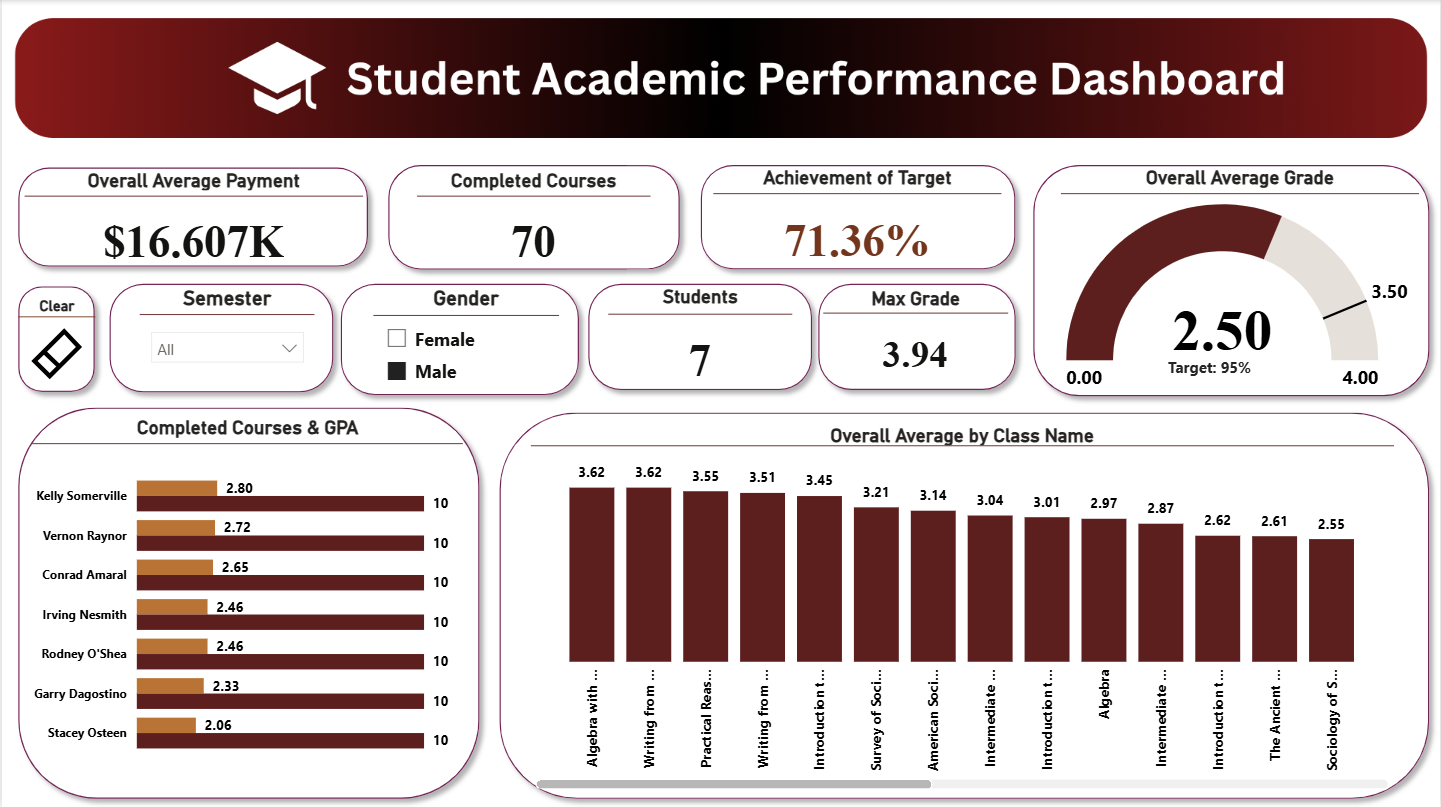

The page's visual inventory and layout, read from the dashboard file:
{"tool":"powerbi","page":{"name":"Page 1","canvas":[1280,720],"ordinal":0},"visuals":[{"type":"group","id":"g1","title":"Group 1","box":[612.9,137.5,298,110.8],"z":0,"group":"g9"},{"type":"shape","box":[909.5,138,370.7,223.7],"z":0,"group":"g10"},{"type":"shape","box":[718,243.8,193.7,112.4],"z":0,"group":"g7"},{"type":"group","id":"g2","title":"Group 3","box":[434.3,358.3,845.7,361.9],"z":0},{"type":"shape","box":[434.3,358.3,845.7,361.9],"z":0,"group":"g2"},{"type":"gauge","title":"Overall Average Grade ","fields":{"Y":["Measures_.Overall Avg Grade"],"TargetValue":["Measures_.Target Grade"]},"box":[942.8,147.8,319.4,211.7],"z":1000,"group":"g11"},{"type":"cardVisual","title":"Max Grade","fields":{"Data":["Measures_.Max Grade"]},"box":[731.7,256.5,164.8,92.5],"z":1000,"group":"g7"},{"type":"group","id":"g3","title":"Group 4","box":[5.6,354,428.6,366.2],"z":1000},{"type":"clusteredColumnChart","title":"Overall Average by Class Name","fields":{"Category":["Courses.Class Name"],"Y":["Measures_.Overall Avg Grade"]},"box":[471.3,377.2,768.5,329.4],"z":1000,"group":"g2"},{"type":"shape","box":[612.9,137.5,298,110.8],"z":2000,"group":"g1"},{"type":"group","id":"g4","title":"Group 5","box":[513.2,243.8,217.1,112.4],"z":2000},{"type":"group","id":"g5","title":"Group 6","box":[335.4,137.5,277.5,113.4],"z":3000},{"type":"shape","box":[335.4,137.5,277.5,111],"z":3000,"group":"g5"},{"type":"group","id":"g6","title":"Group 2","box":[6,139.9,329.4,106.2],"z":3000,"group":"g8"},{"type":"cardVisual","title":"Achievement of Target","fields":{"Data":["Measures_.Achievement %"]},"box":[633.4,147.6,257,105.7],"z":3000,"group":"g9"},{"type":"shape","box":[86.8,243.8,217.2,114.6],"z":3000,"group":"g13"},{"type":"shape","box":[292.8,243.8,230,117],"z":3000,"group":"g12"},{"type":"shape","box":[513.2,243.8,217.2,112.6],"z":4000,"group":"g4"},{"type":"group","id":"g7","title":"Group 8","box":[718,243.8,193.7,112.4],"z":4000},{"type":"shape","box":[6,246,86,112],"z":4000,"group":"g14"},{"type":"group","id":"g8","title":"Group 9","box":[6,139.9,329.4,111],"z":5000},{"type":"cardVisual","title":"Completed Courses","fields":{"Data":["Measures_.Completed Courses"]},"box":[370.4,149.4,207.7,101.3],"z":5000,"group":"g5"},{"type":"cardVisual","title":"Overall Average Payment","fields":{"Data":["Measures_.Avg Payment"]},"box":[20.5,149.6,301.6,101.3],"z":5000,"group":"g8"},{"type":"group","id":"g9","title":"Group 10","box":[612.9,137.5,298,115.8],"z":6000},{"type":"shape","box":[6,139.9,329.4,106.2],"z":6000,"group":"g6"},{"type":"group","id":"g10","title":"Group 11","box":[909.5,138,370.7,223.7],"z":7000},{"type":"cardVisual","title":"Students","fields":{"Data":["CountNonNull(StudentInfo.Full Name)"]},"box":[539.8,253.6,163.9,102.8],"z":7000,"group":"g4"},{"type":"group","id":"g11","title":"Group 7","box":[942.8,147.8,319.4,211.7],"z":8000,"group":"g10"},{"type":"group","id":"g12","title":"Group 12","box":[292.8,243.8,230.4,116.9],"z":8000},{"type":"slicer","title":"Semester","fields":{"Values":["Semesters.Semester"]},"box":[122.6,255,156,92.2],"z":8002,"group":"g13"},{"type":"slicer","title":"Gender","fields":{"Values":["StudentInfo.Gender"]},"box":[330.8,255.2,165.3,94.1],"z":8002,"group":"g12"},{"type":"group","id":"g13","title":"Group 12","box":[86.8,243.8,217.1,114.7],"z":9000},{"type":"textbox","box":[1021.9,312.8,106.9,28.9],"z":10000},{"type":"shape","box":[5.6,354,428.6,366.2],"z":10000,"group":"g3"},{"type":"actionButton","title":"Clear","box":[14.5,264.9,69,76.8],"z":10001,"group":"g14"},{"type":"group","id":"g14","title":"Group 13","box":[6,246,86,112],"z":11000},{"type":"clusteredBarChart","title":"Completed Courses & GPA","fields":{"Y":["Measures_.Overall Avg Grade","Measures_.Completed Courses"],"Category":["Students.StudentName"]},"box":[22.7,370.3,393.1,315.6],"z":11000,"group":"g3"}]}

Visuals, with their boxes in screenshot pixels (x1, y1, x2, y2), scaled from the page's 1280x720 canvas onto the 1441x807 screenshot:
"Group 1" group: 690,154,1025,278
shape: 1024,155,1440,405
shape: 808,273,1026,399
"Group 3" group: 489,402,1440,806
shape: 489,402,1440,806
"Overall Average Grade " gauge: 1061,166,1421,403
"Max Grade" cardVisual: 824,287,1009,391
"Group 4" group: 6,397,489,806
"Overall Average by Class Name" clusteredColumnChart: 531,423,1396,792
shape: 690,154,1025,278
"Group 5" group: 578,273,822,399
"Group 6" group: 378,154,690,281
shape: 378,154,690,279
"Group 2" group: 7,157,378,276
"Achievement of Target" cardVisual: 713,165,1002,284
shape: 98,273,342,402
shape: 330,273,589,404
shape: 578,273,822,399
"Group 8" group: 808,273,1026,399
shape: 7,276,104,401
"Group 9" group: 7,157,378,281
"Completed Courses" cardVisual: 417,167,651,281
"Overall Average Payment" cardVisual: 23,168,363,281
"Group 10" group: 690,154,1025,284
shape: 7,157,378,276
"Group 11" group: 1024,155,1440,405
"Students" cardVisual: 608,284,792,399
"Group 7" group: 1061,166,1421,403
"Group 12" group: 330,273,589,404
"Semester" slicer: 138,286,314,389
"Gender" slicer: 372,286,559,392
"Group 12" group: 98,273,342,402
textbox: 1150,351,1271,383
shape: 6,397,489,806
"Clear" actionButton: 16,297,94,383
"Group 13" group: 7,276,104,401
"Completed Courses & GPA" clusteredBarChart: 26,415,468,769
